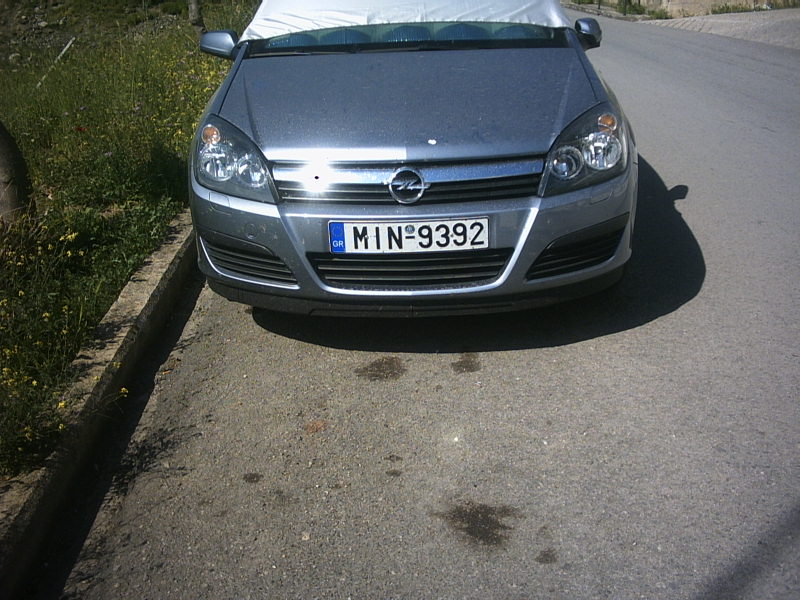licenseplate: (327, 215, 490, 254)
